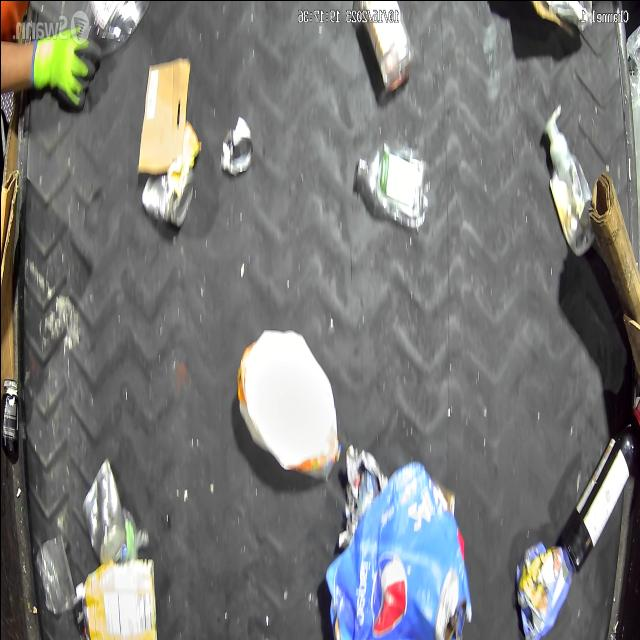can: (80, 552, 156, 640), (78, 454, 127, 563), (138, 171, 194, 226), (218, 118, 252, 173)
milk_jug: (234, 326, 342, 483)
plastic_bottle: (352, 138, 427, 226)
